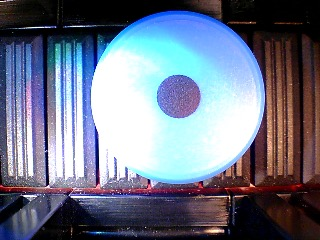BOHO: (89, 10, 266, 184)
